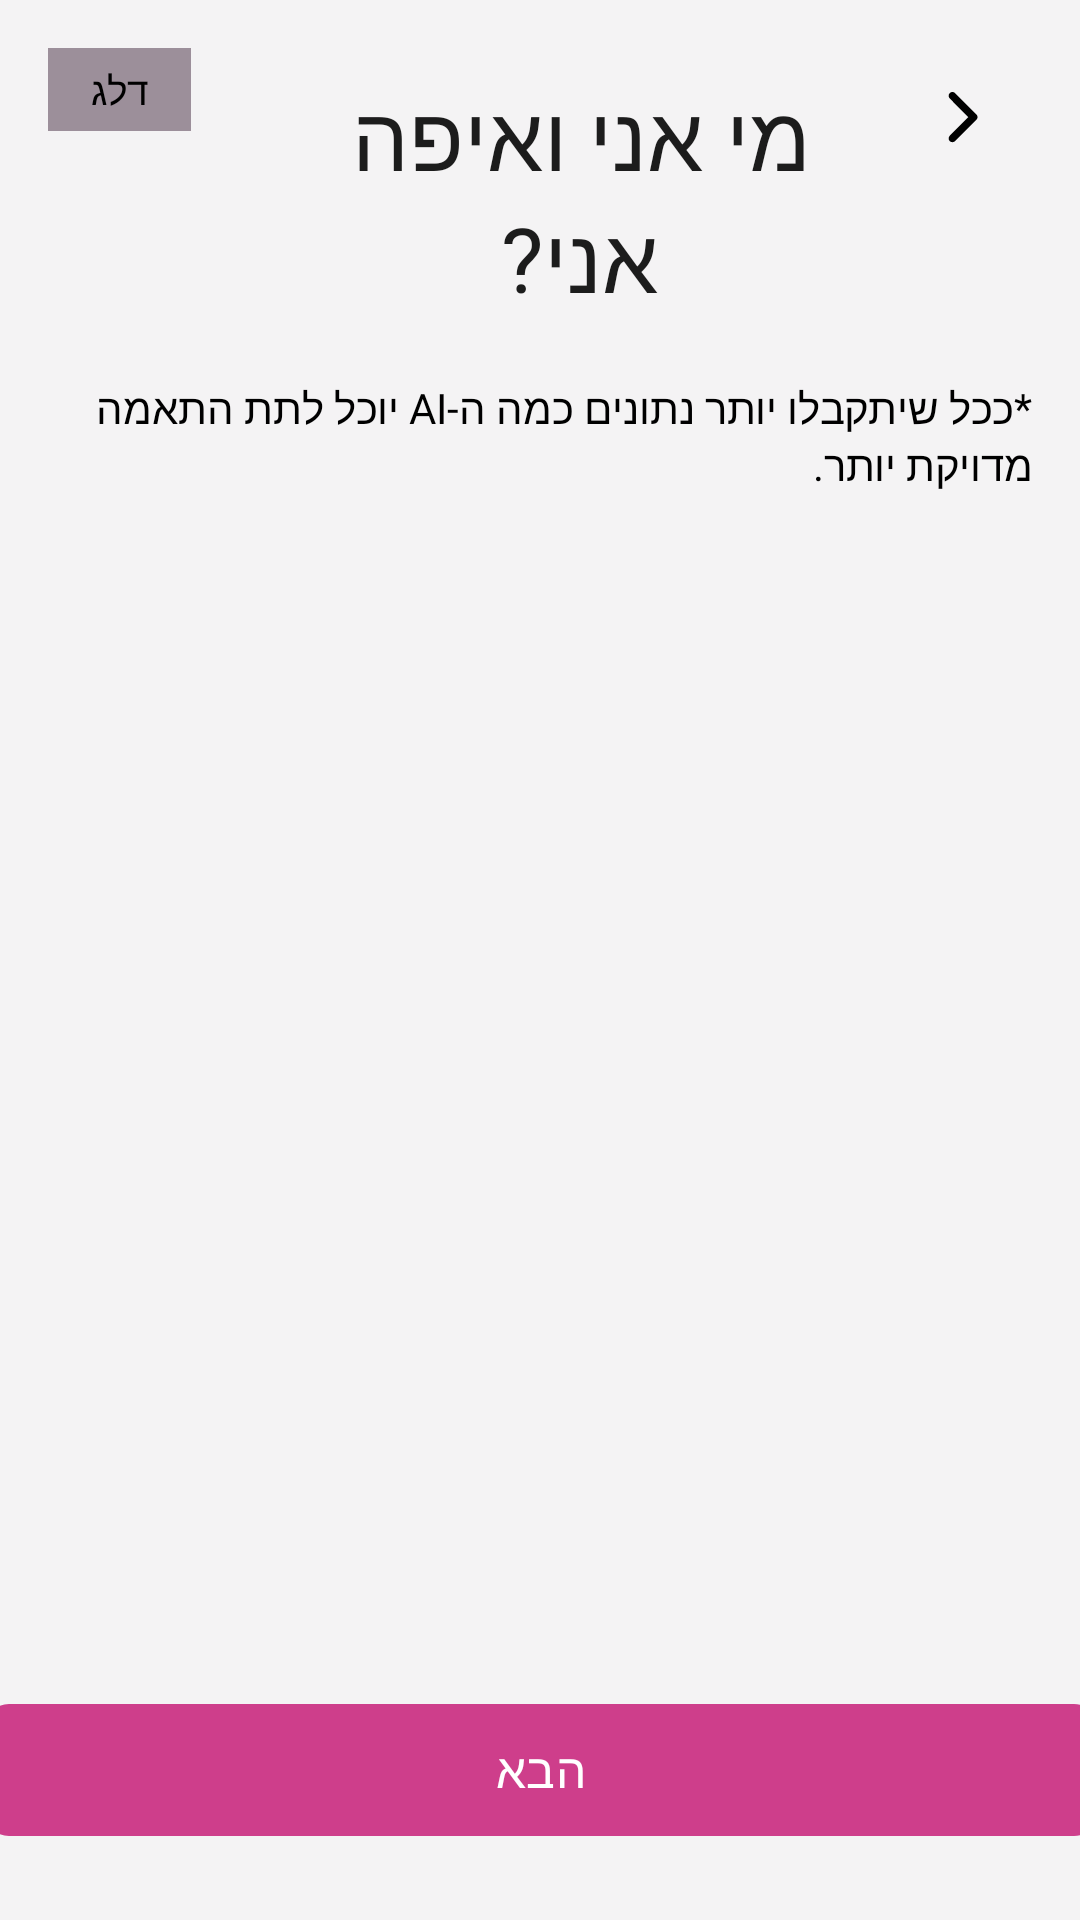

Icon click points for this 1080 × 1920 phone screenshot, format point (x, y):
arrow forward: point (963, 117)
